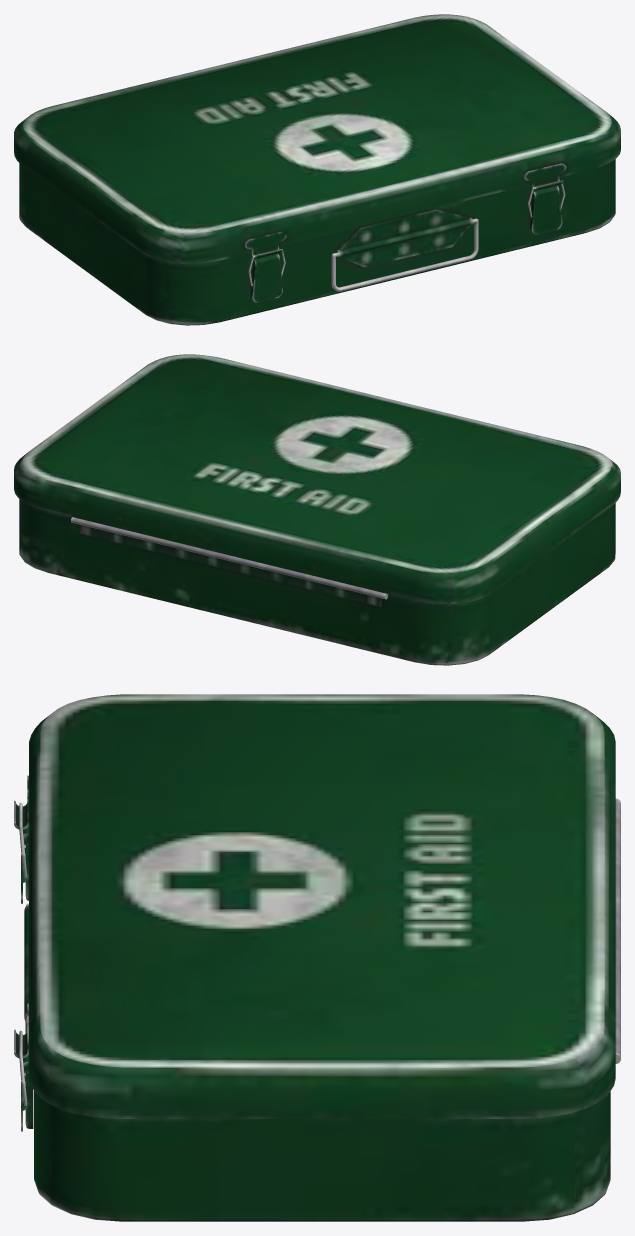
File: medical_box.glb
3 renders of one model, top to bottom at view 1: azimuth 30°, elevation 25°; view 2: azimuth 150°, elevation 25°; view 3: azimuth 270°, elevation 25°, orthographic. The views are drawn at different scales.
Visible parts, largest first — view 1: medical_box_latch; view 2: medical_box_latch; view 3: medical_box_latch.
Boxes of the visible parts, <box> form: medical_box_latch: <box>14,14,620,325</box>; medical_box_latch: <box>14,354,620,665</box>; medical_box_latch: <box>14,694,620,1221</box>.
Bounding box in the file's own units: 0.5255 × 0.0975 × 0.3501.
Materials: 1 (1 with a texture image).
